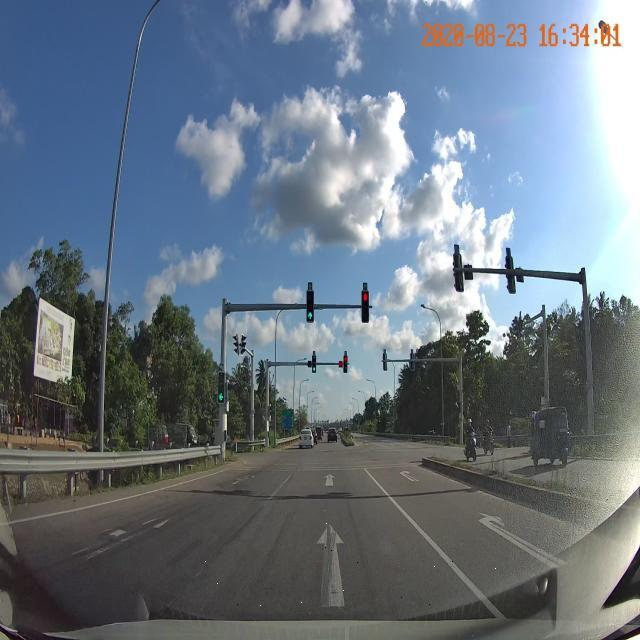forward: (200, 515, 500, 610)
